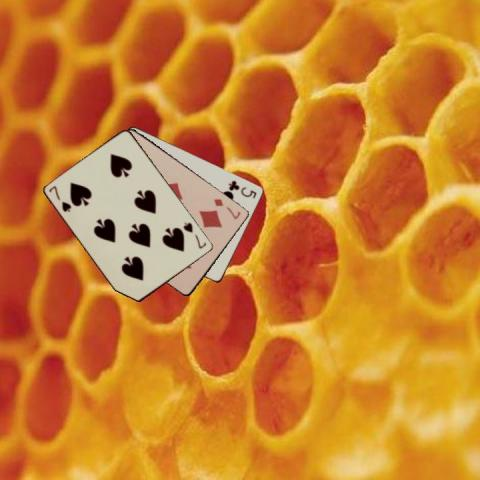5c: (225, 177, 258, 200)
7d: (211, 195, 242, 221)
7s: (180, 219, 208, 250), (46, 183, 73, 213)
